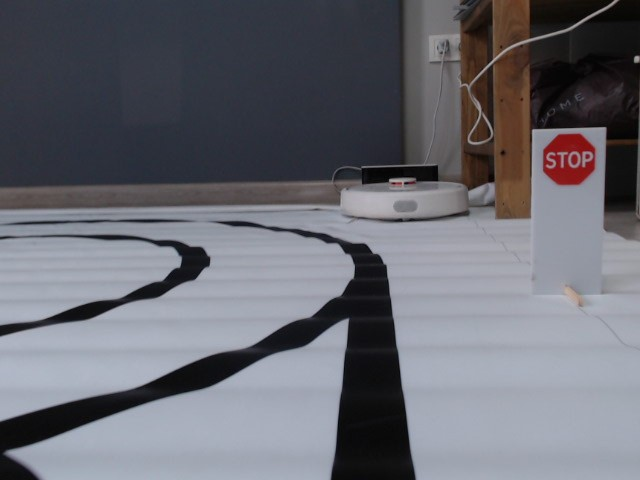Stop: (543, 132, 597, 186)
